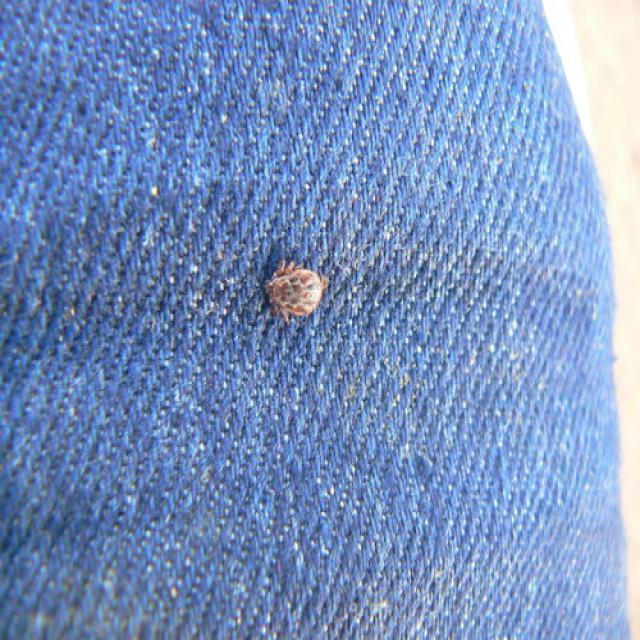Dermacentor Reticulatus-M: (264, 261, 330, 324)
